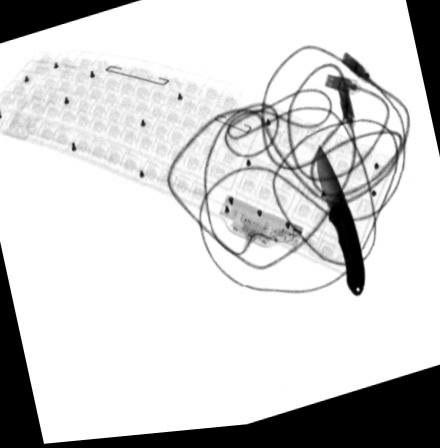Knife: (314, 147, 364, 303)
